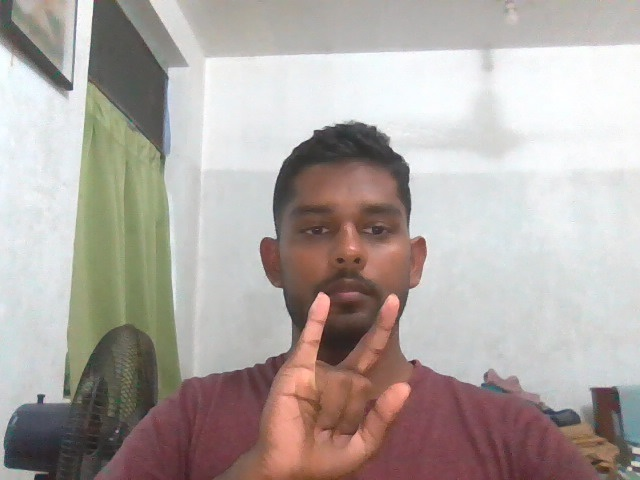hello: (240, 284, 426, 478)
